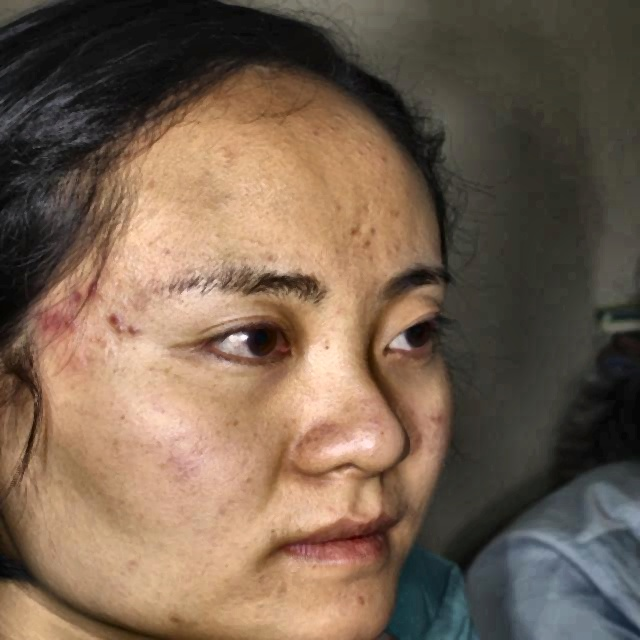pustule: (109, 312, 136, 340), (352, 222, 374, 244), (84, 278, 104, 300), (51, 310, 60, 343), (70, 284, 82, 304), (64, 320, 82, 333), (32, 306, 44, 325)
